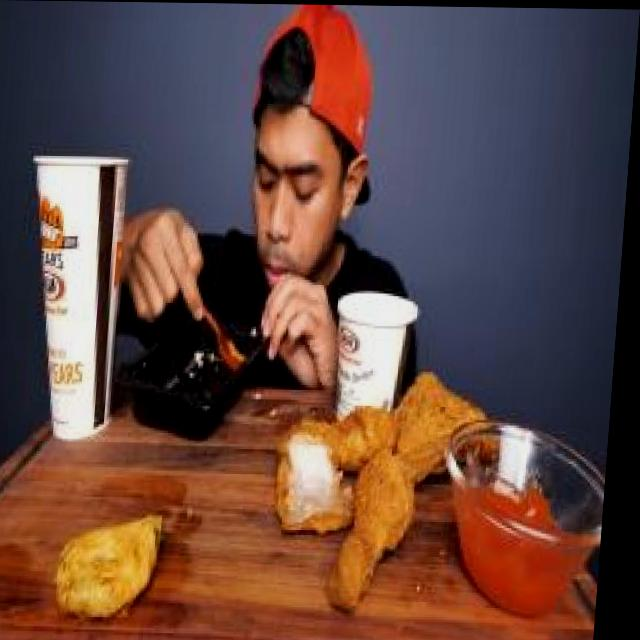AW cola: (8, 130, 142, 460)
crispy corn: (335, 281, 442, 430)
fried chicken: (275, 359, 497, 599)
perkedel: (48, 491, 181, 637)
